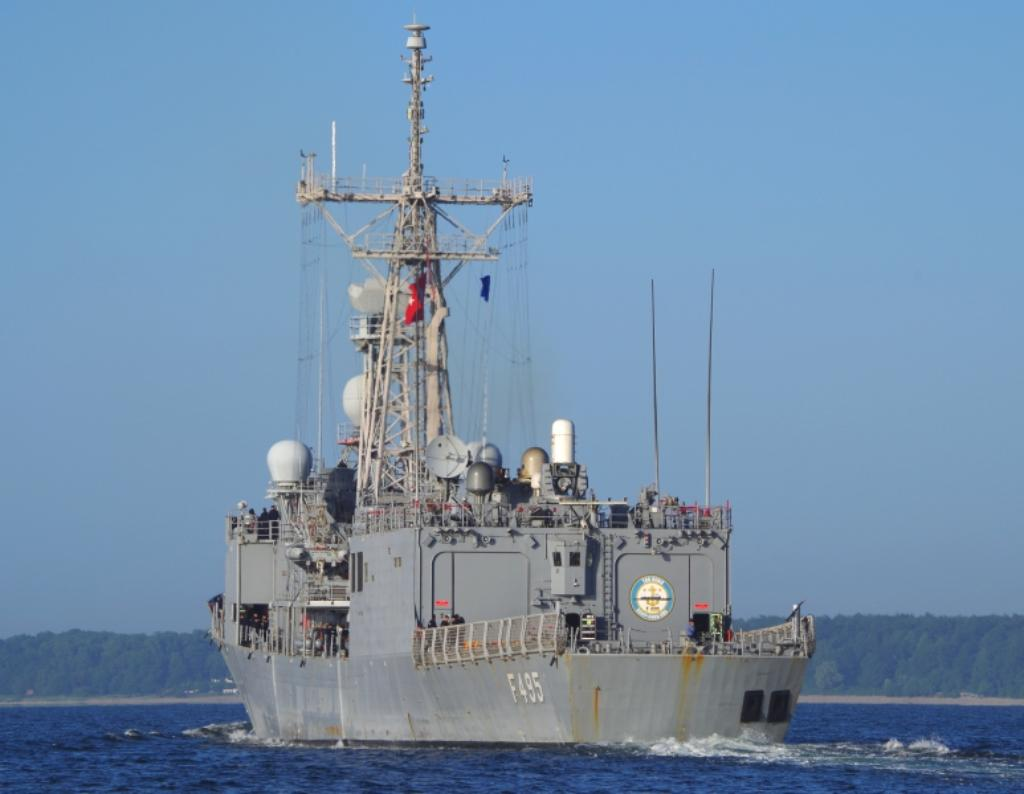Warship: (204, 2, 822, 762)
